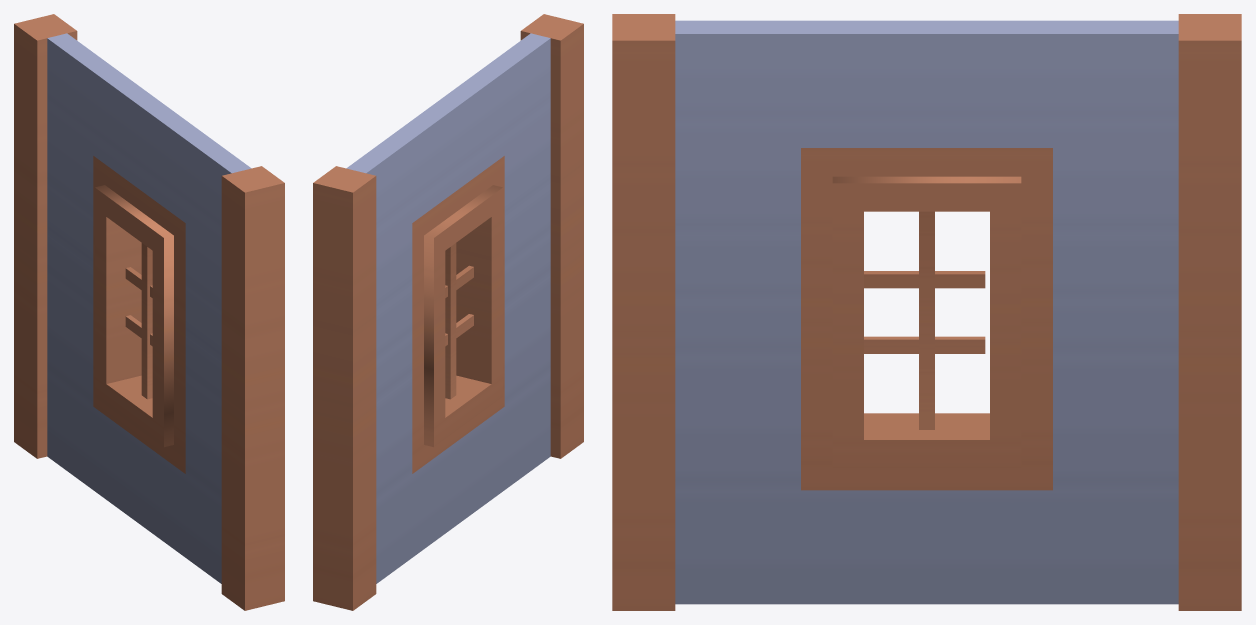
Rendered from wall-window-glass.fbx.
3 views of the same model, side by side, from view 1: azimuth 30°, elevation 25°; view 2: azimuth 150°, elevation 25°; view 3: azimuth 270°, elevation 25° (orthographic). The views are drawn at different scales.
Parts seen in each view (by area): view 1: wall-window-glass; view 2: wall-window-glass; view 3: wall-window-glass.
Part boxes in pixels (<box>): wall-window-glass: <box>14,14,284,610</box>; wall-window-glass: <box>313,14,583,610</box>; wall-window-glass: <box>612,14,1241,610</box>.
Bounding box in the file's own units: 10 × 100 × 100.
1 material, 1 textured.
